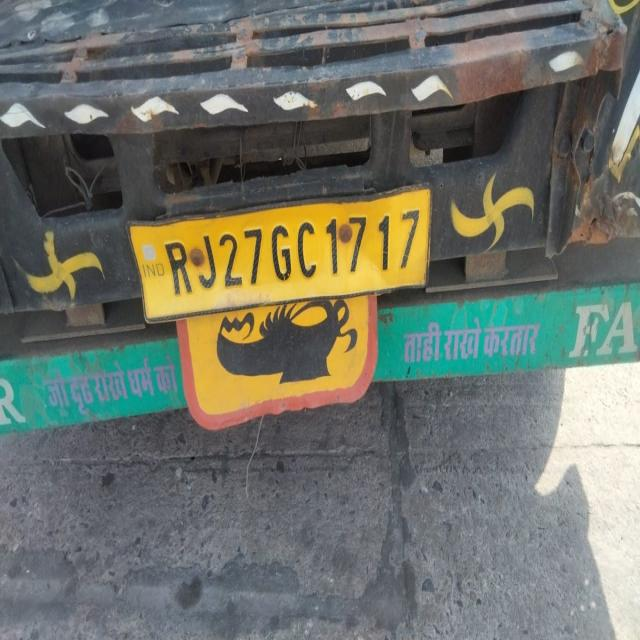License-plate: (147, 194, 462, 292)
